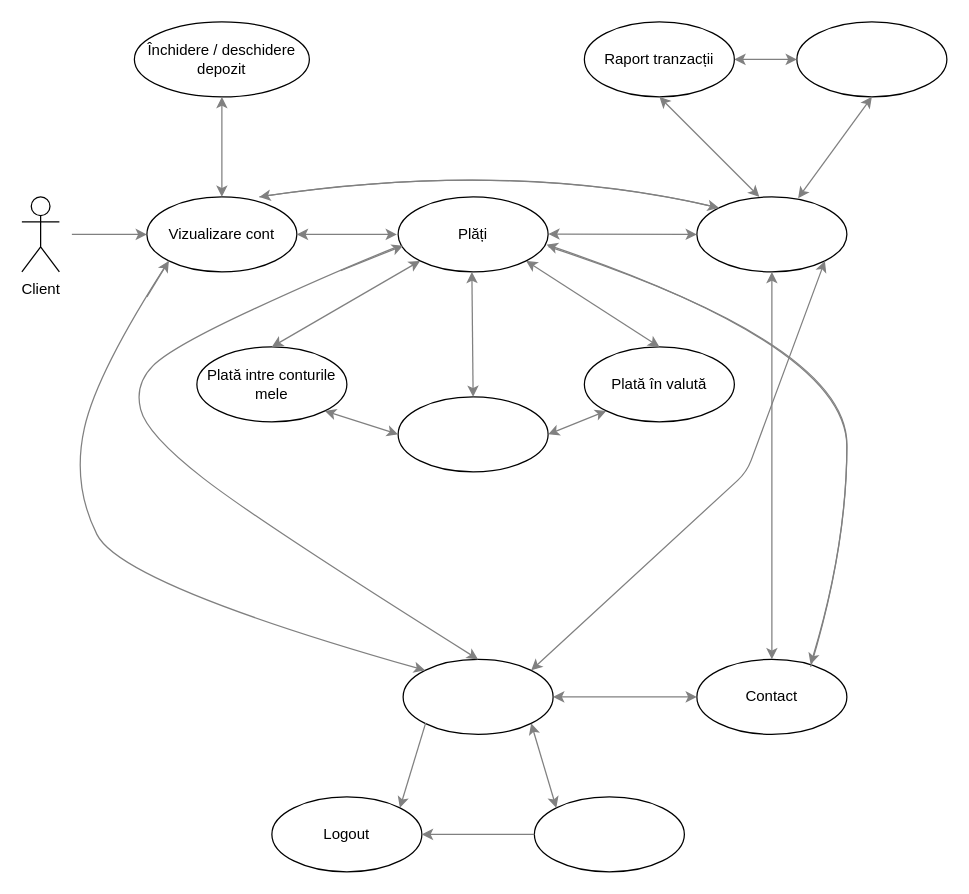
Image size: 969x894. Some labels were removed from this diagram. The centre of each missing label's shape, as x and y in pixels:
"Contul meu" goes at (x=477, y=696).
"Editare cont" goes at (x=608, y=834).
"Extras de cont" goes at (x=871, y=59).
"Plată în lei" goes at (x=472, y=434).
"Rapoarte și extrase" goes at (x=771, y=234).
